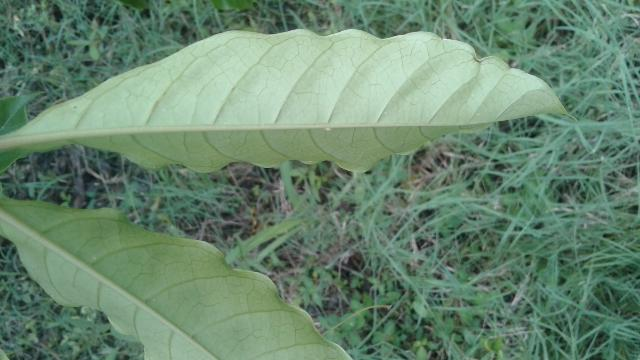healthy: (0, 23, 580, 177)
